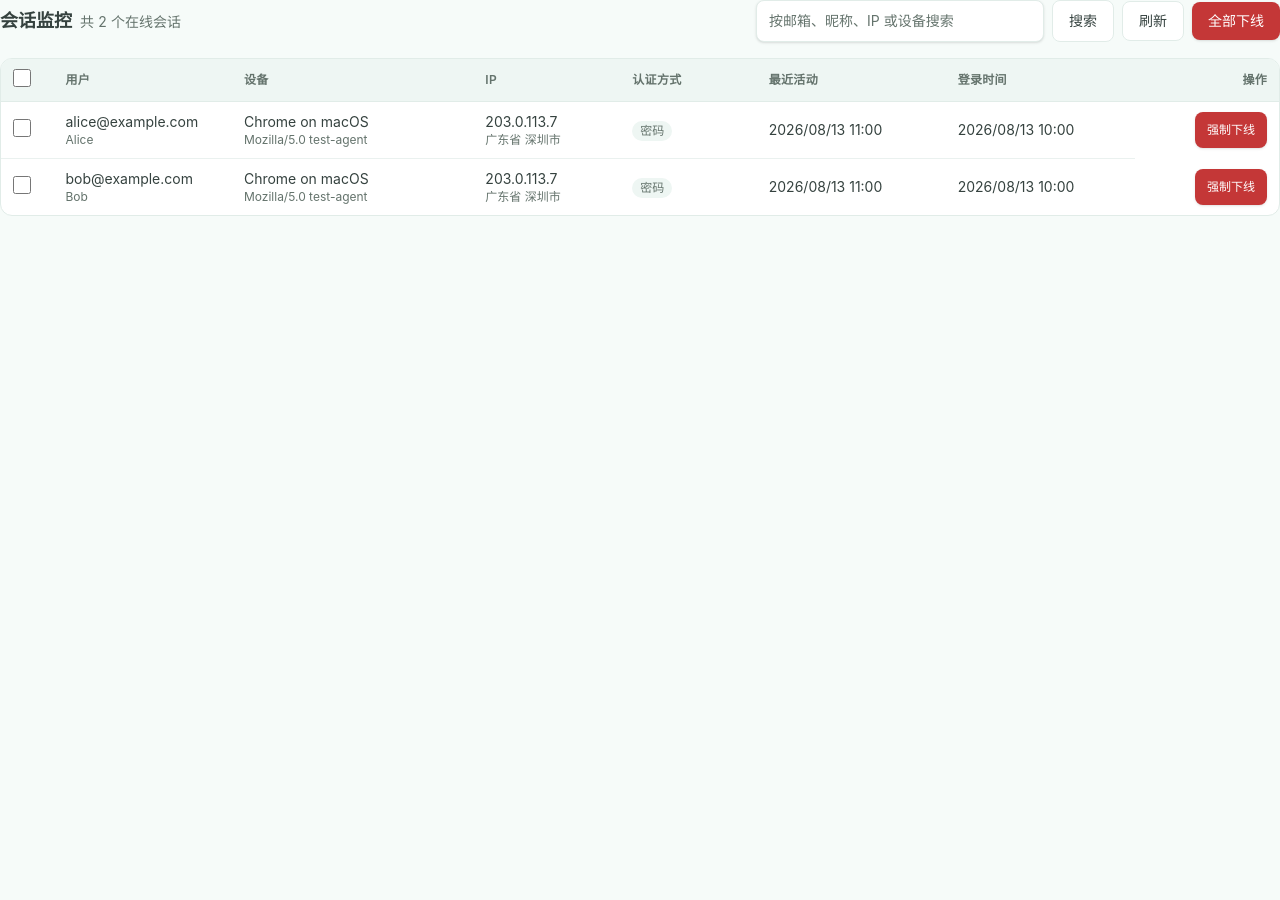
Test: AdminSessionsPanel › 勾选会话后批量下线并刷新列表
expect the text "alice@example.com" is shown: met, box [66,112,220,132]
Click the checkbox named "选择 alice@example.com": (22, 128) [13,118,31,136]
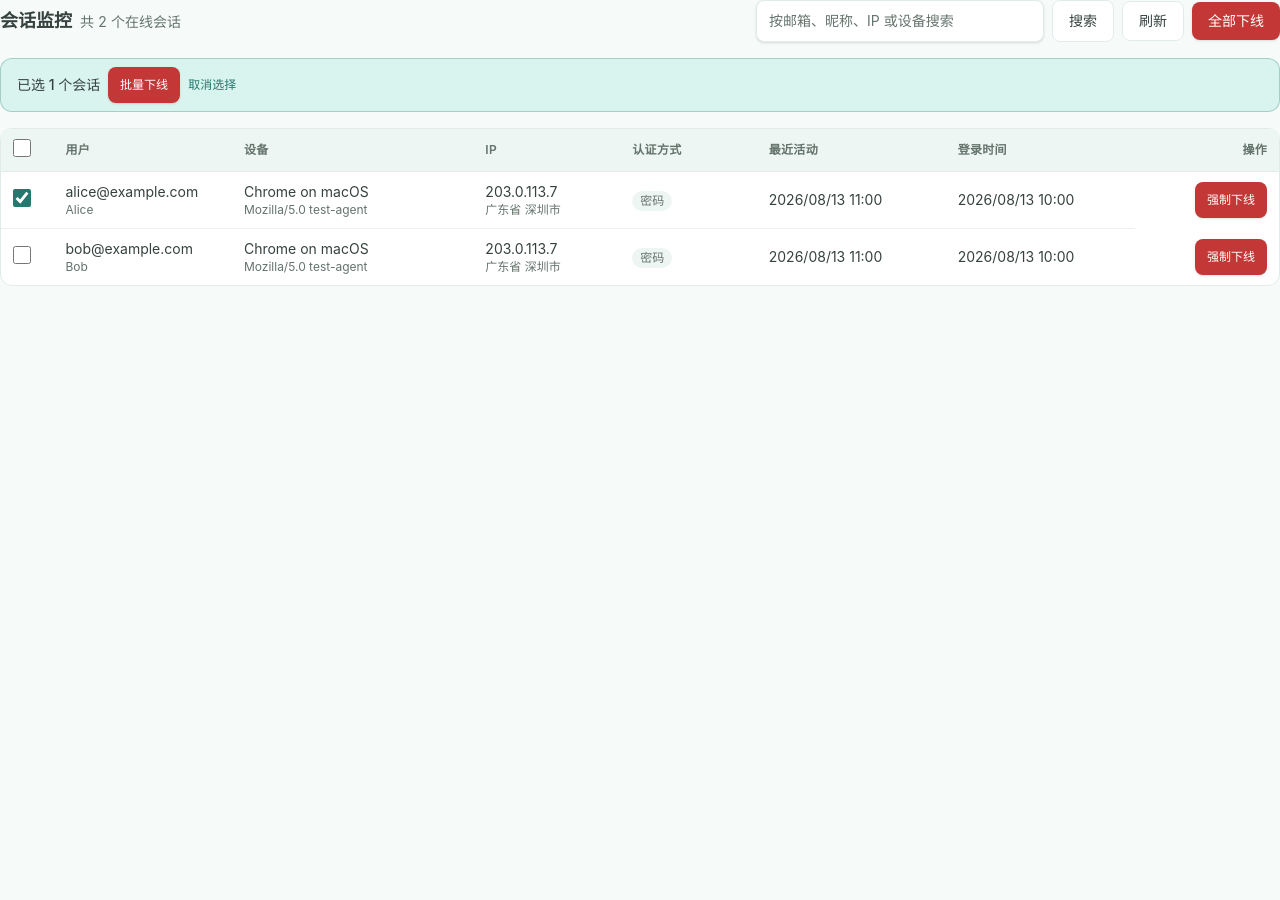
Click the checkbox named "选择 bob@example.com": (22, 254) [13,246,31,264]
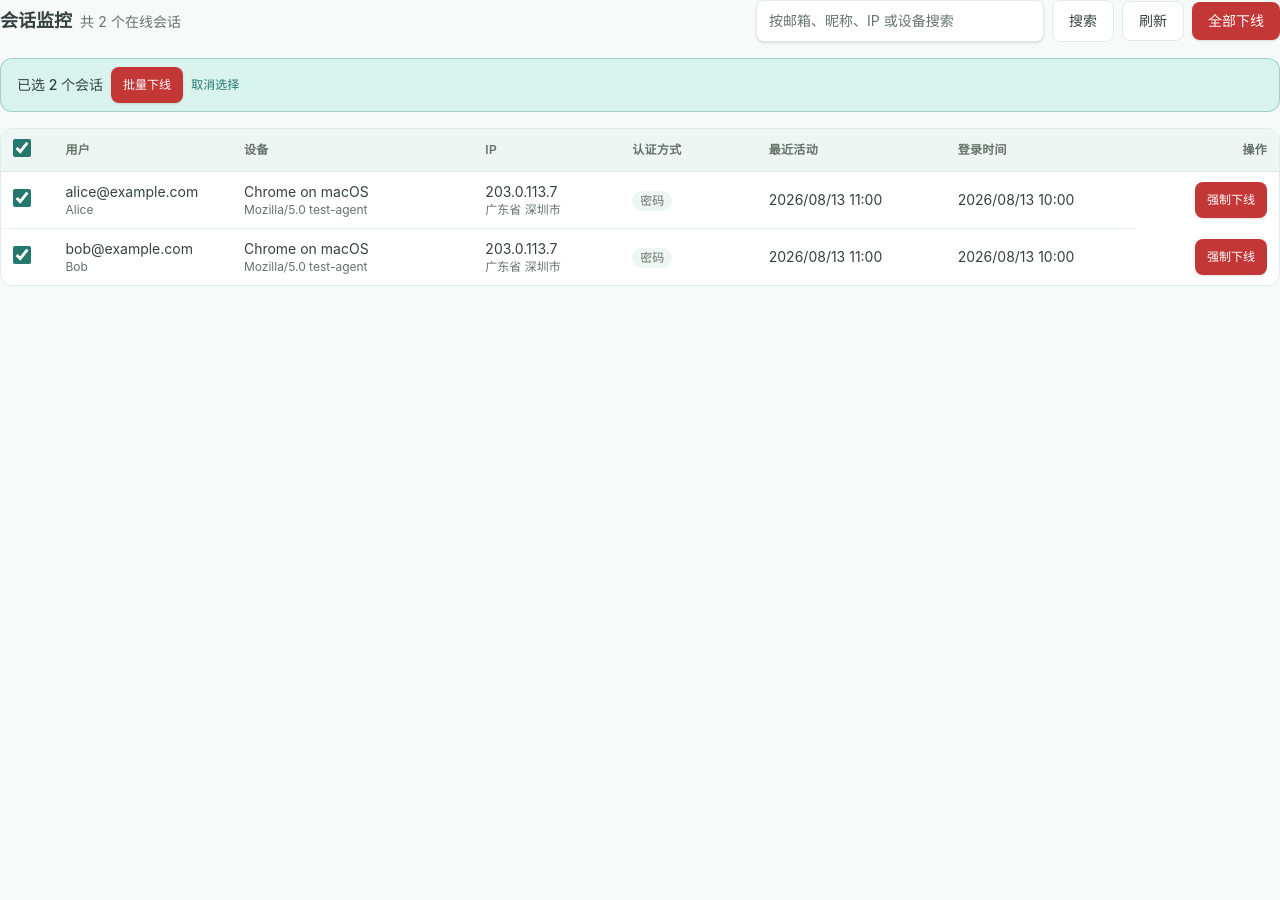
expect the text "已选 2 个会话" is shown: met, box [17,75,103,95]
Click the button "批量下线": (147, 85) [111,67,183,103]
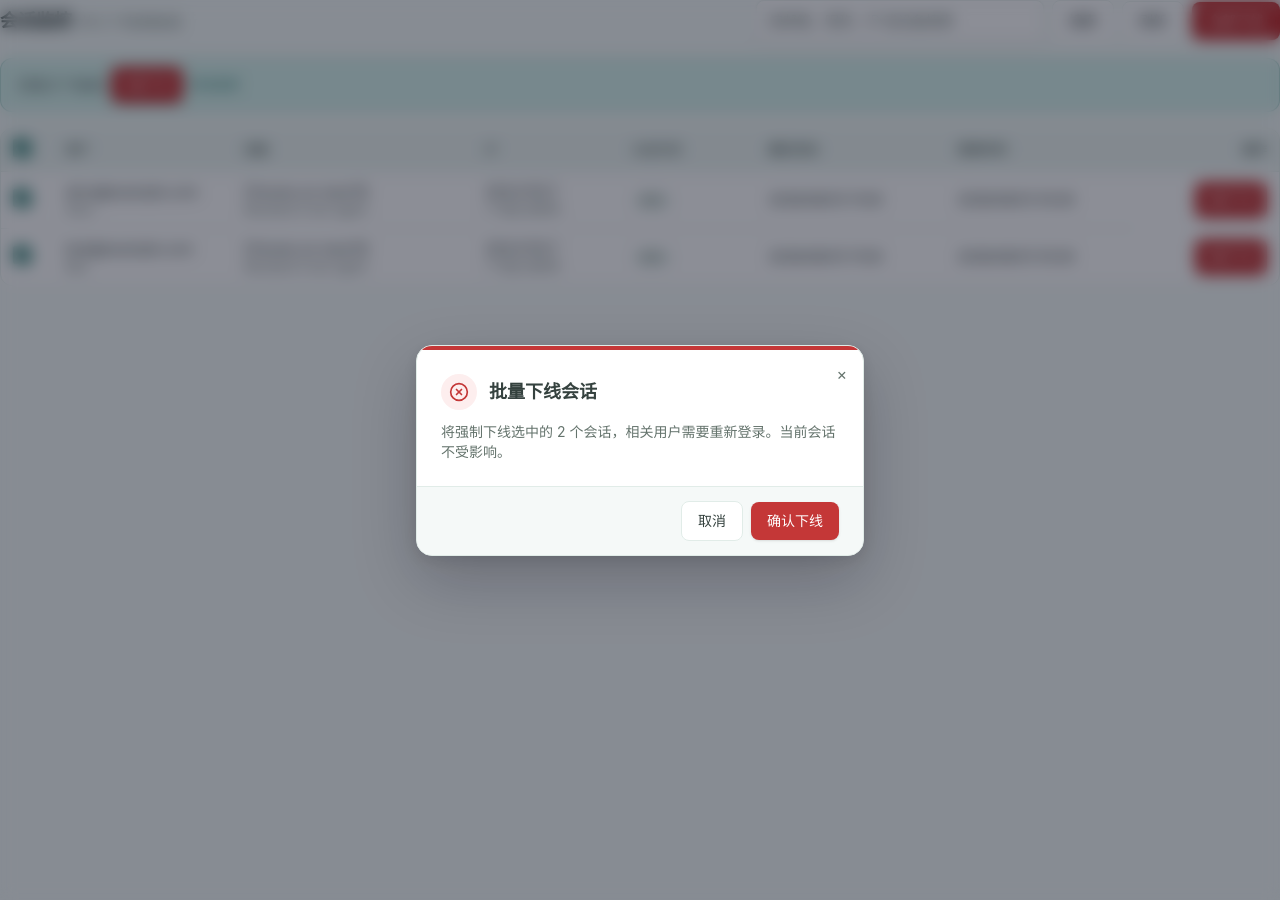
expect the text "将强制下线选中的 2 个会话，相关用户需要重新登录。当前会话不受影响。" is shown: met, box [441,422,835,460]
Click the button "确认下线": (795, 520) [751,502,839,540]
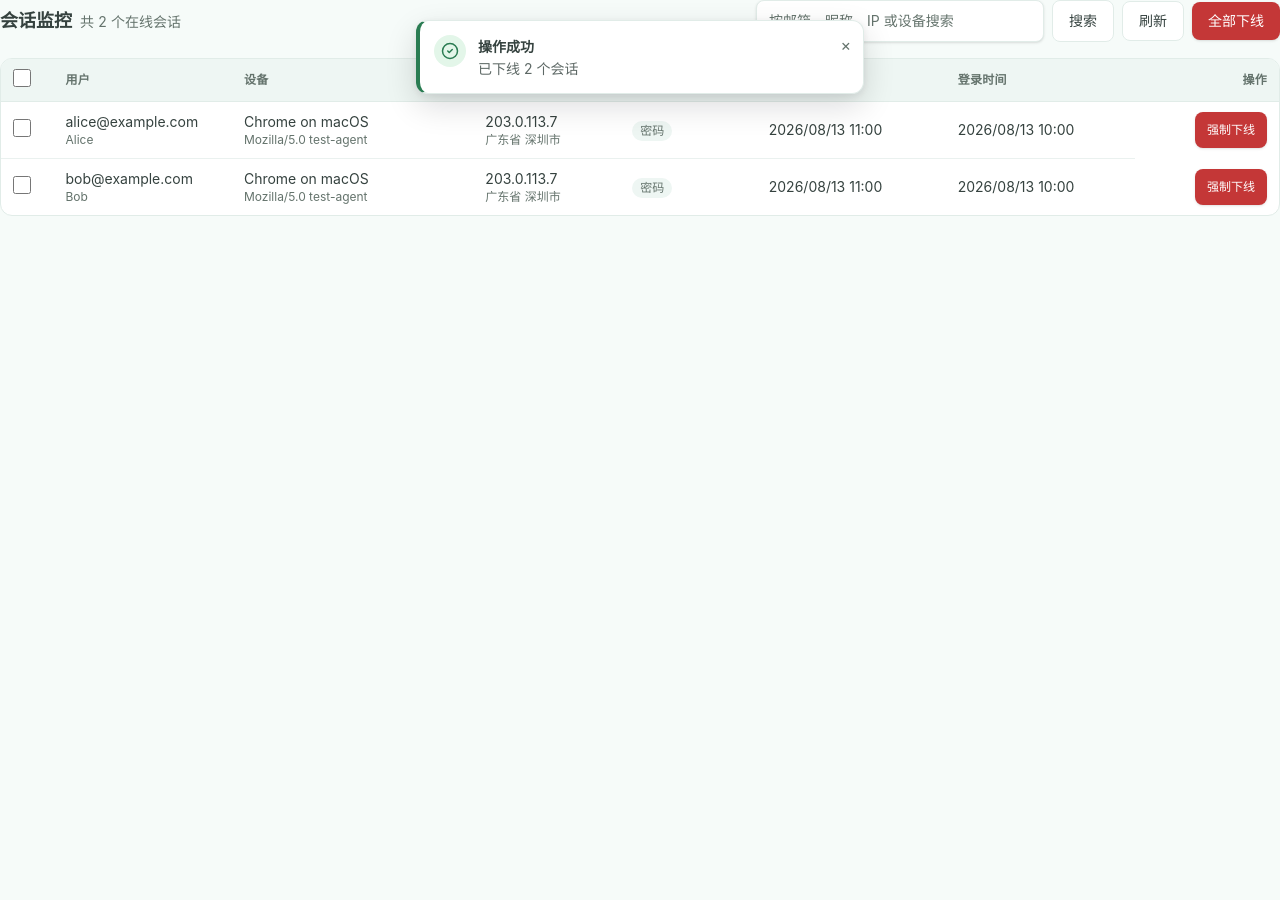
expect the text "已下线 2 个会话" is shown: met, box [478,60,578,77]
expect the dialog is gone: met
expect the text "已选 2 个会话" is gone: met
